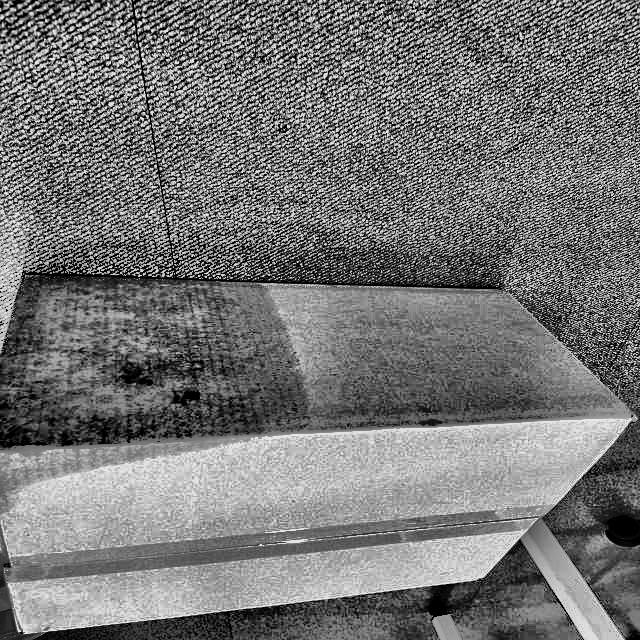box: (0, 271, 638, 640)
wet: (5, 255, 315, 493)
